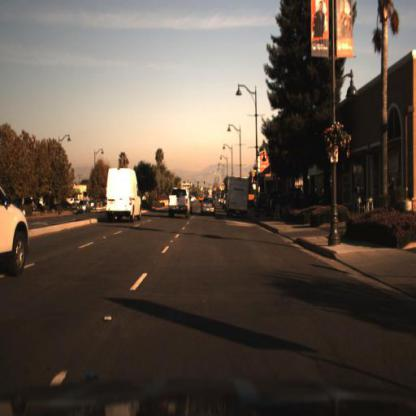car: (97, 154, 148, 233), (2, 167, 31, 287), (223, 174, 252, 225), (165, 191, 194, 222), (198, 200, 219, 221), (76, 195, 91, 218), (74, 201, 91, 218)
truck: (103, 170, 147, 231), (226, 177, 250, 218)
